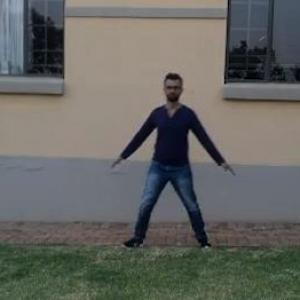land: (107, 70, 246, 254)
